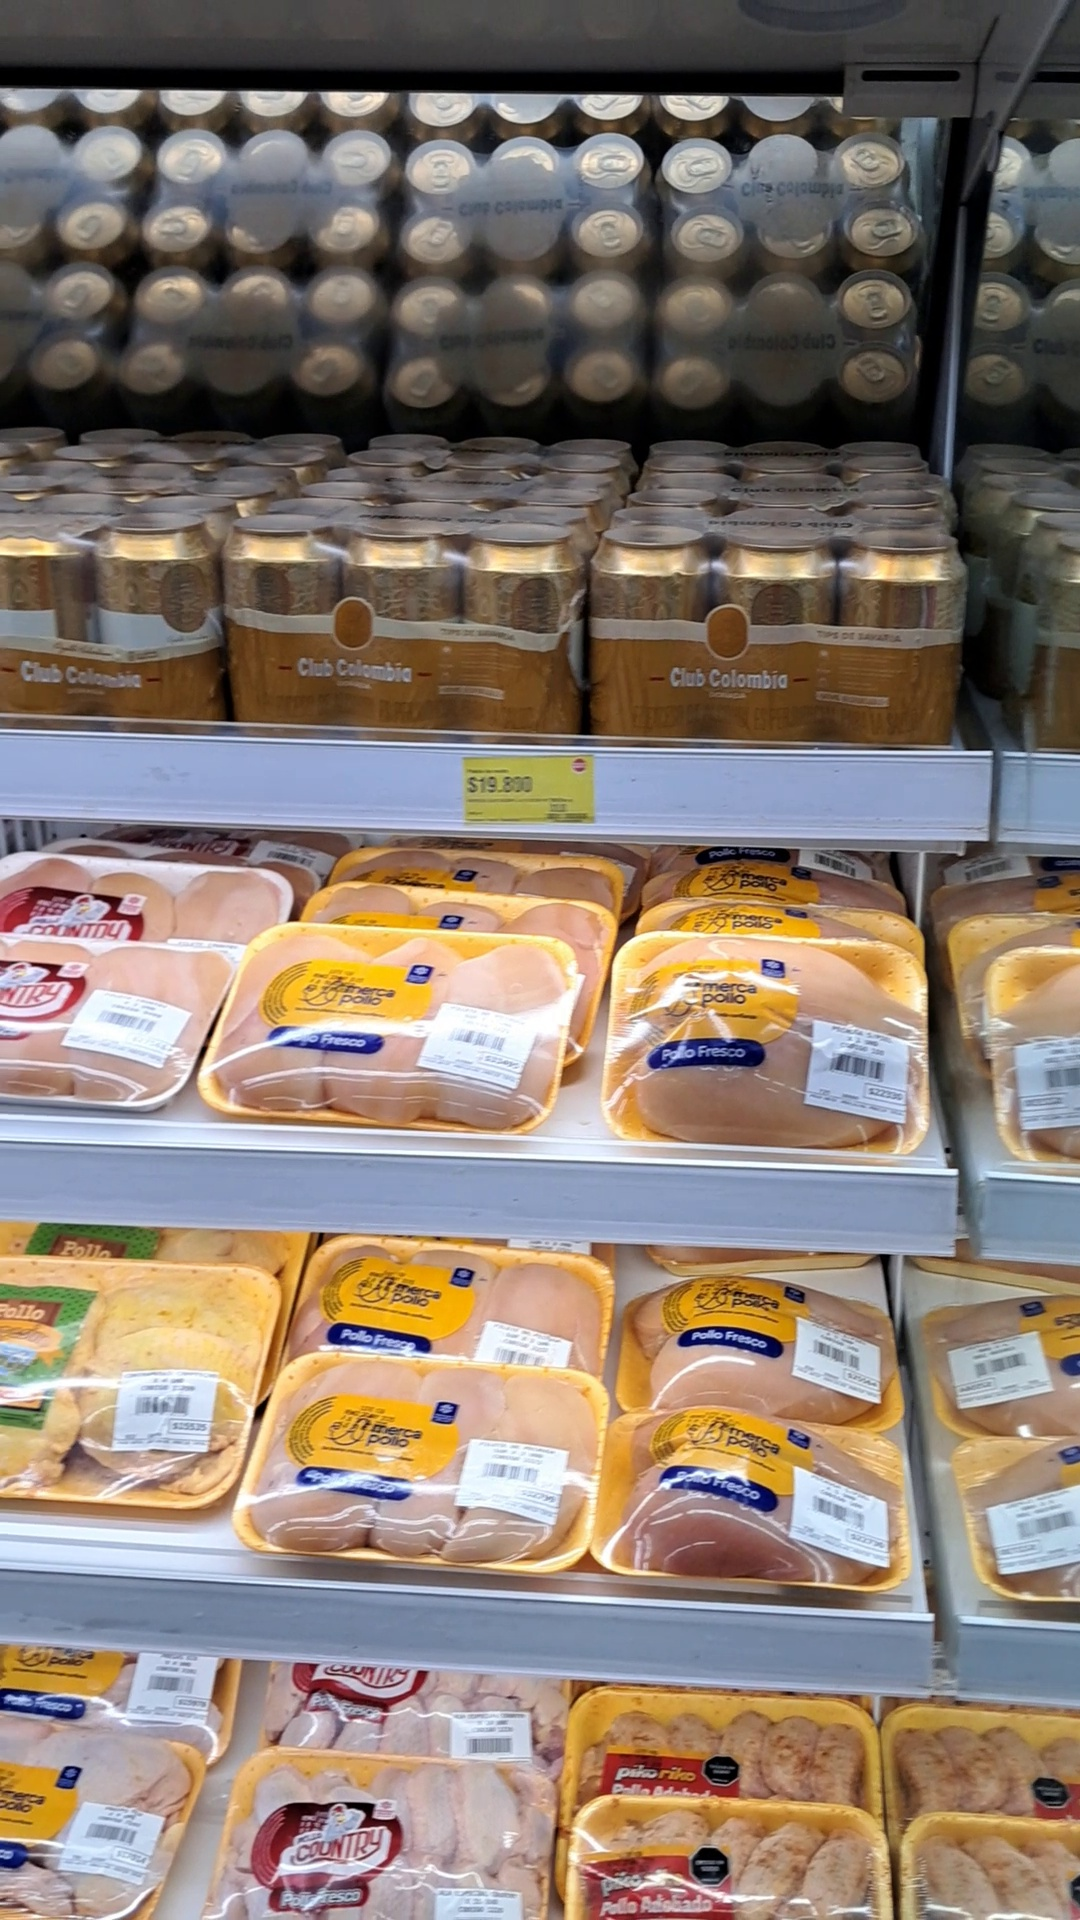Cerveza: (607, 506, 1006, 731), (241, 497, 599, 731), (8, 500, 233, 720), (644, 425, 953, 512), (28, 422, 315, 495), (318, 425, 636, 487)
